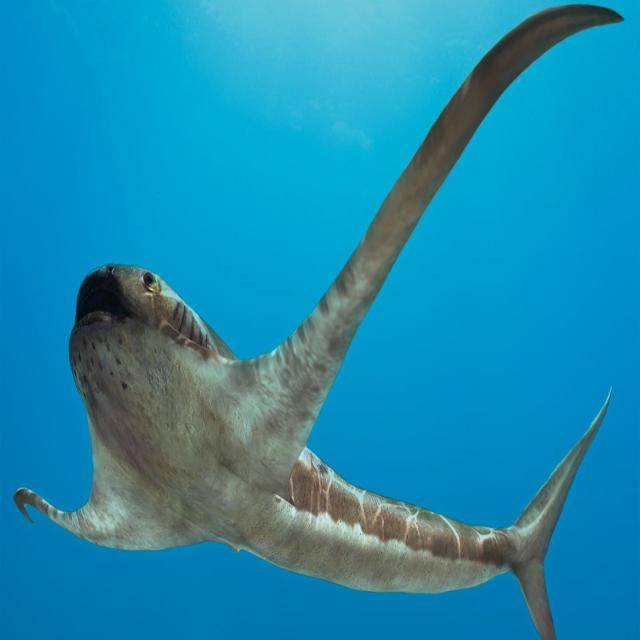shark: (14, 5, 622, 639)
